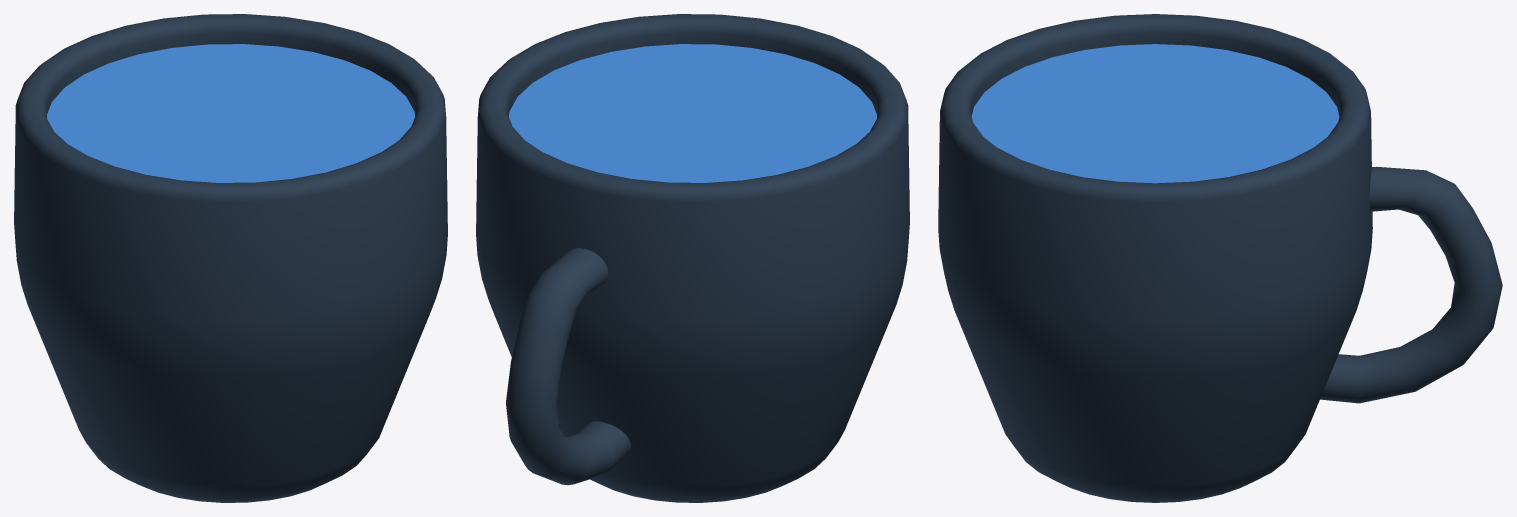
Rendered from XicaraAgua2.fbx.
3 renders of one model, left to right at view 1: azimuth 30°, elevation 25°; view 2: azimuth 150°, elevation 25°; view 3: azimuth 270°, elevation 25°, orthographic.
Visible parts, largest first — view 1: Xicara_Agua2; view 2: Xicara_Agua2; view 3: Xicara_Agua2.
Part boxes in pixels (x1=…): Xicara_Agua2: x1=14, y1=14, x2=447, y2=502; Xicara_Agua2: x1=476, y1=14, x2=909, y2=502; Xicara_Agua2: x1=938, y1=14, x2=1502, y2=502.
Bounding box in the file's own units: 202 × 182 × 262.
Materials: 1 (1 with a texture image).
